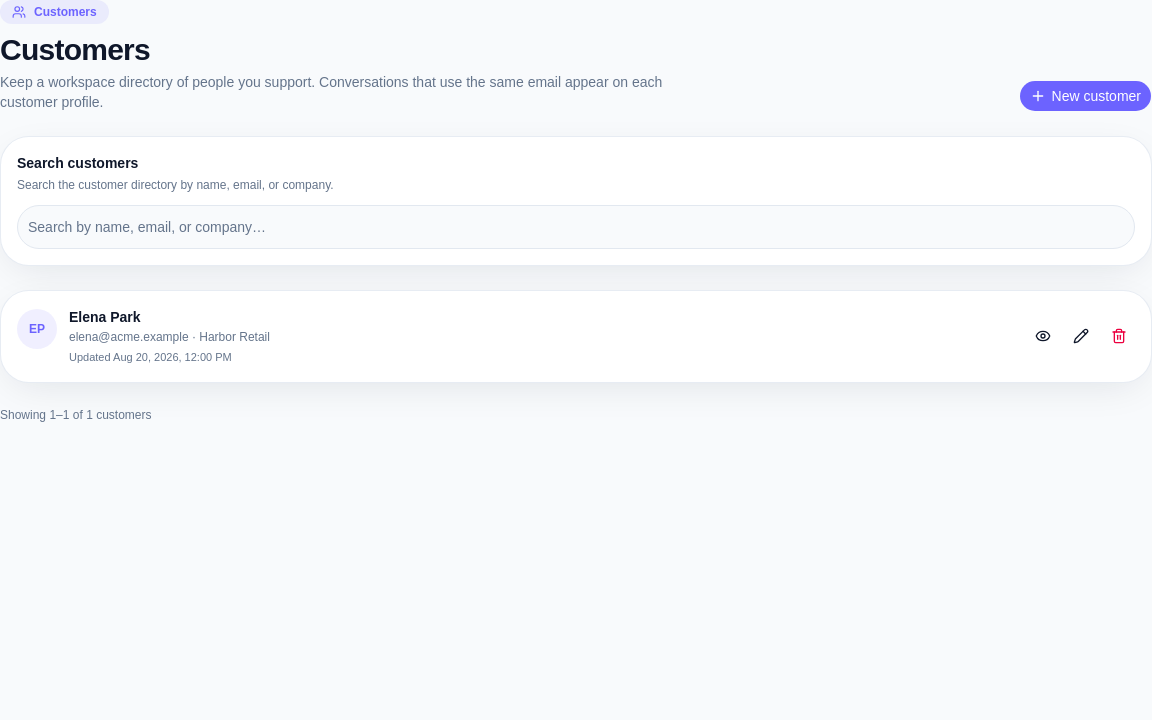
Test case: CustomersBoard › confirms deletion and removes the customer from the list
Expected: the text "Elena Park" is shown, [69,309,141,325]
Click the button named "Delete Elena Park" at (1119, 336), box [1103,320,1135,352]
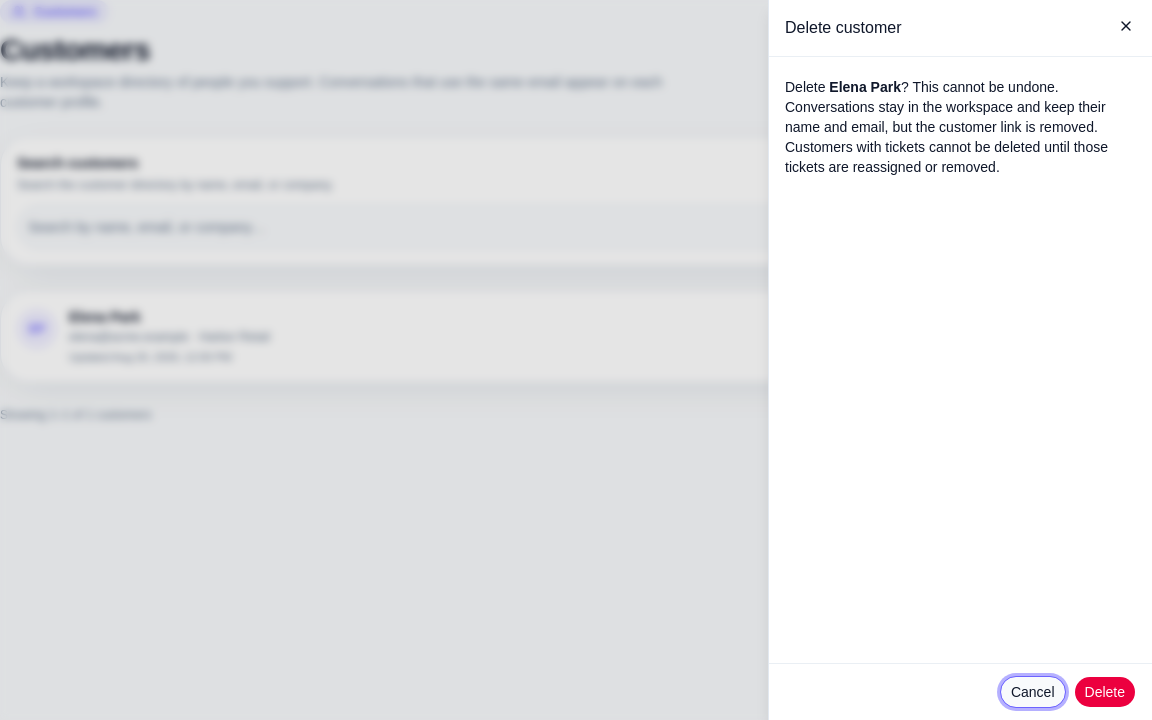
Now the text "This cannot be undone" is shown, box [785,79,1108,175]
Now the heading "Delete customer" is shown, box [785,19,902,36]
Click the button "Delete" at (1105, 692), box [1074,676,1136,708]
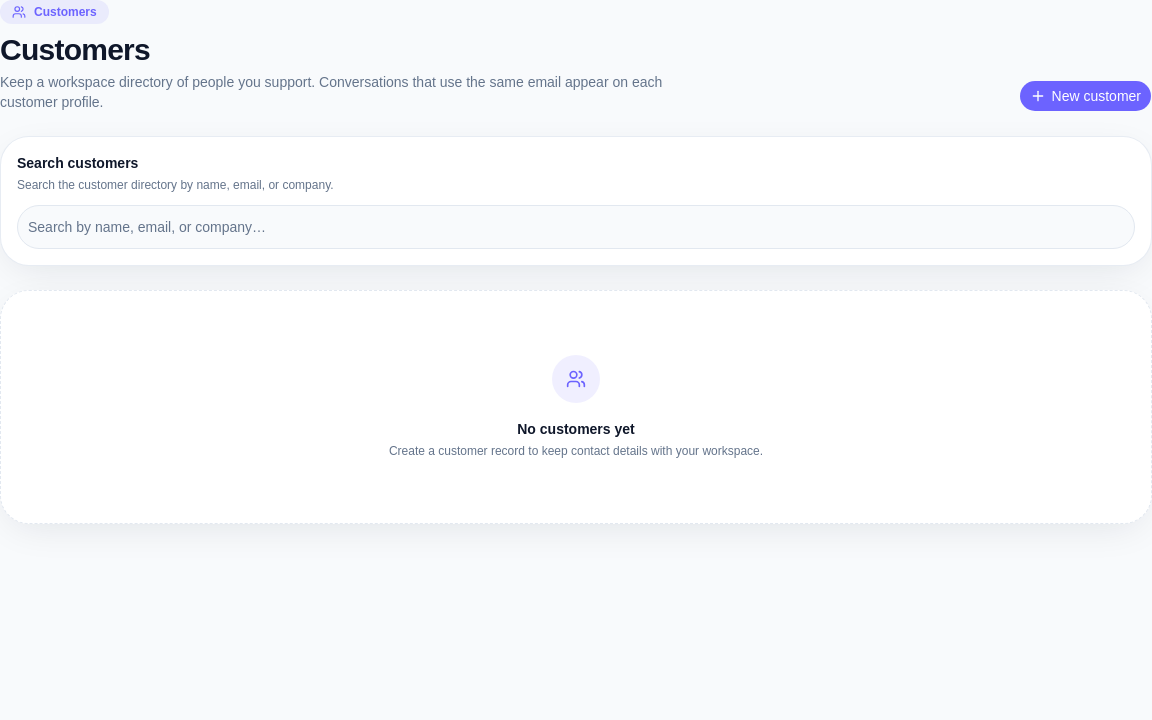
Now the text "No customers yet" is shown, box [517,421,635,437]
Now the button "Elena Park" is gone
